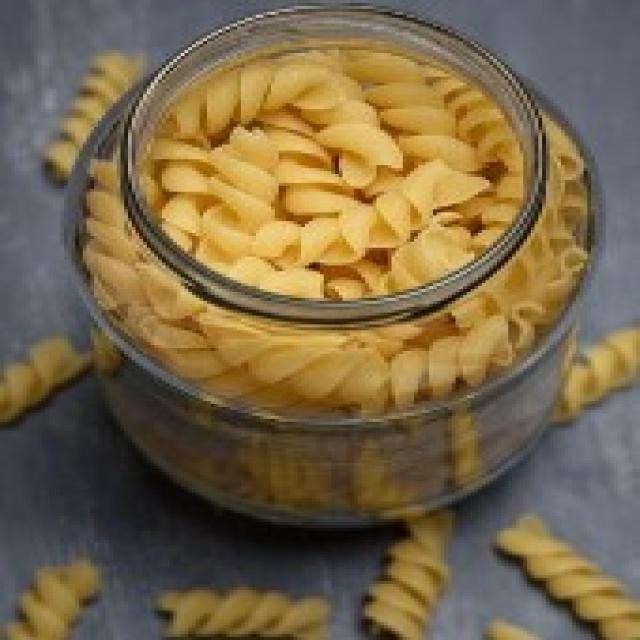electronic: (68, 2, 602, 530)
